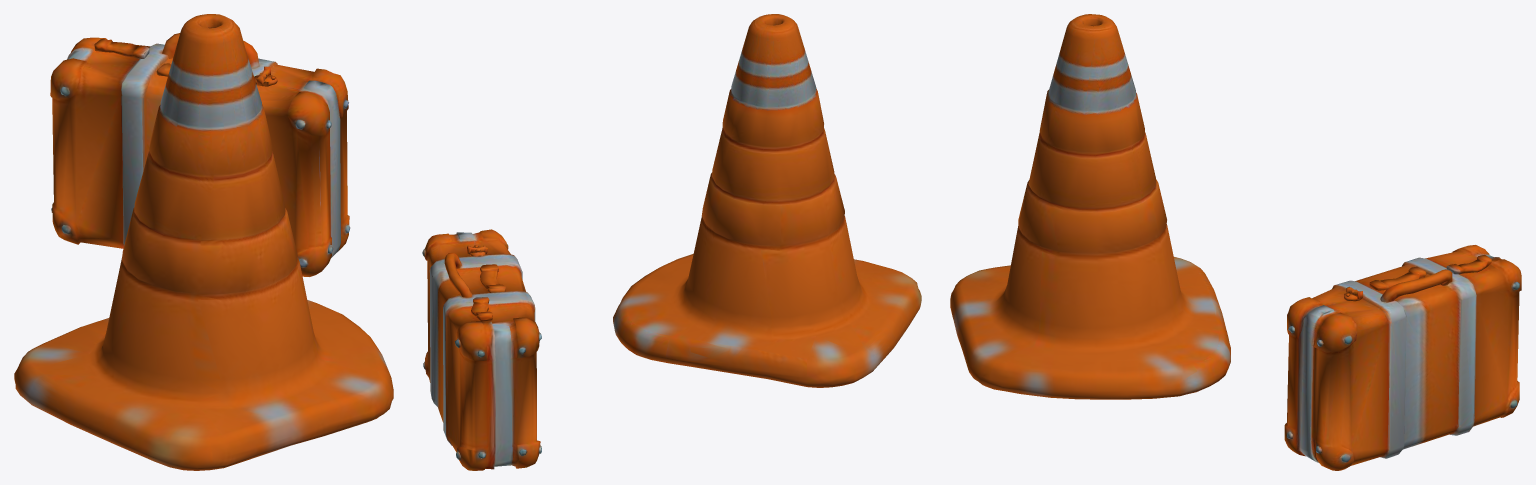
Rendered from prop_cone.glb.
3 renders of one model, left to right at view 1: azimuth 30°, elevation 25°; view 2: azimuth 150°, elevation 25°; view 3: azimuth 270°, elevation 25°, orthographic. The views are drawn at different scales.
Visible parts, largest first — view 1: tripo_node_0bb7584d-a6ea-4727-96f7-b5ddeb484a99; view 2: tripo_node_0bb7584d-a6ea-4727-96f7-b5ddeb484a99; view 3: tripo_node_0bb7584d-a6ea-4727-96f7-b5ddeb484a99.
Part boxes in pixels (x1,y1,x2,y2): tripo_node_0bb7584d-a6ea-4727-96f7-b5ddeb484a99: [14, 14, 393, 470]; tripo_node_0bb7584d-a6ea-4727-96f7-b5ddeb484a99: [422, 14, 921, 470]; tripo_node_0bb7584d-a6ea-4727-96f7-b5ddeb484a99: [950, 14, 1521, 470].
Size of the model in its own units: 0.7402 by 0.6621 by 0.998.
1 material, 1 textured.
